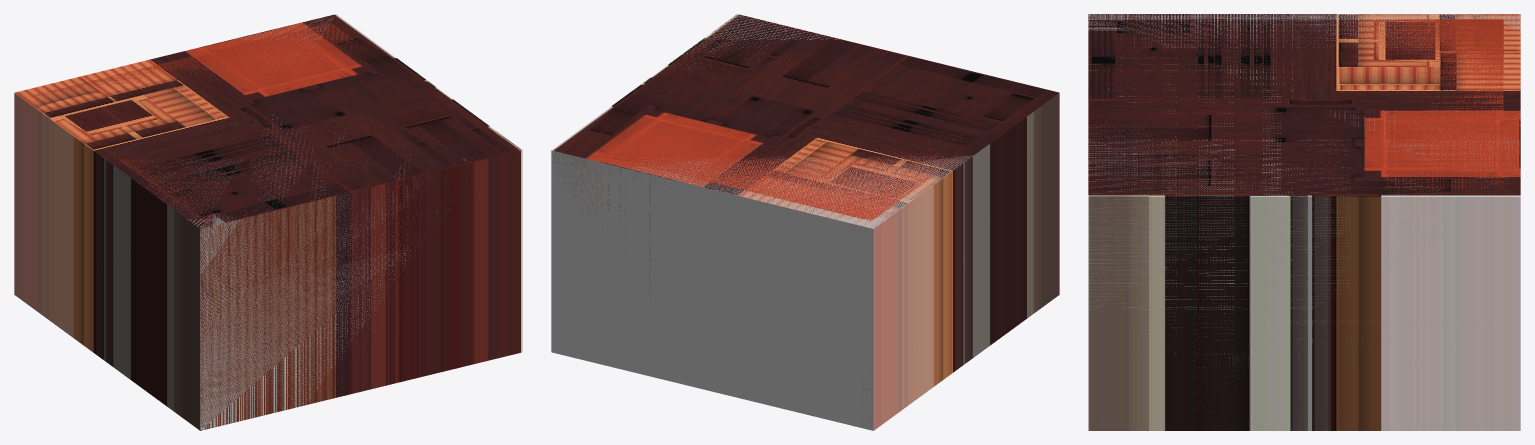
File: table.DAE
3 views of the same model, side by side, from view 1: azimuth 30°, elevation 25°; view 2: azimuth 150°, elevation 25°; view 3: azimuth 270°, elevation 25° (orthographic). The views are drawn at different scales.
Parts seen in each view (by area): view 1: colbox-1, bounds, table100; view 2: colbox-1, bounds, table100; view 3: colbox-1, table100, bounds.
Boxes of the visible parts, box(x1,y1,x2,y2) form: colbox-1: box(14, 14, 522, 430); bounds: box(21, 15, 437, 430); table100: box(32, 23, 366, 221); colbox-1: box(551, 14, 1059, 430); bounds: box(551, 14, 972, 430); table100: box(579, 145, 957, 221); colbox-1: box(1088, 14, 1520, 430); table100: box(1305, 19, 1503, 188); bounds: box(1088, 14, 1520, 429).
Size of the model in its own units: 158 by 158 by 94.77.
